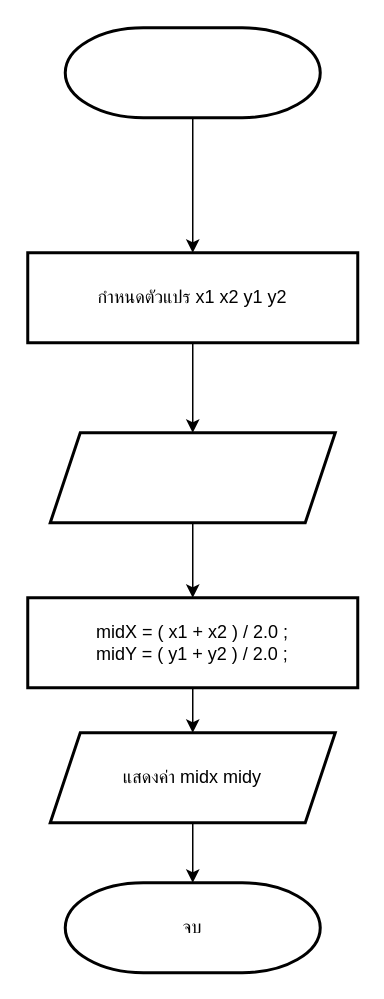
Some shapes in this 384 by 999 pixel diagram are drawn without their labels. The box of each missing label's shape, as (x1, y1, x2, y2) in pixels:
รับค่าพิกัด จากผู้ใช้ 2 พิกัด x1 x2 y1 y2: (48, 430, 336, 524)
เริ่ม: (63, 26, 321, 118)
